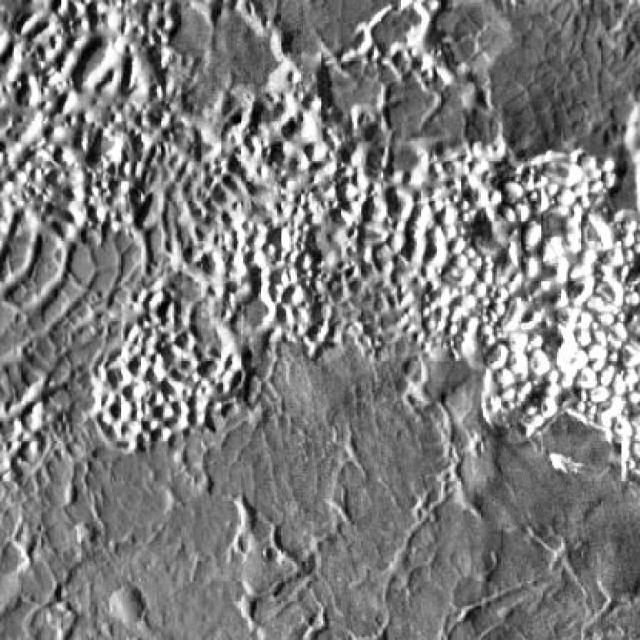crater: (114, 586, 149, 622)
